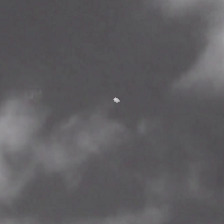Target: (112, 97, 122, 103)
